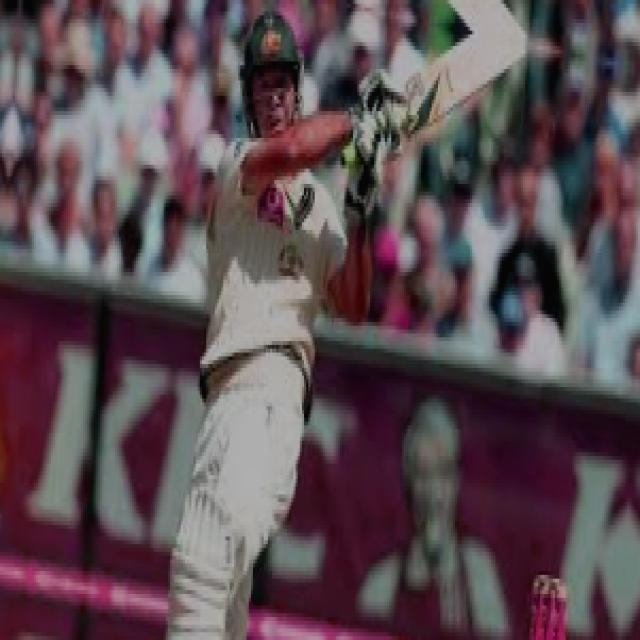toe: (473, 32, 532, 58)
